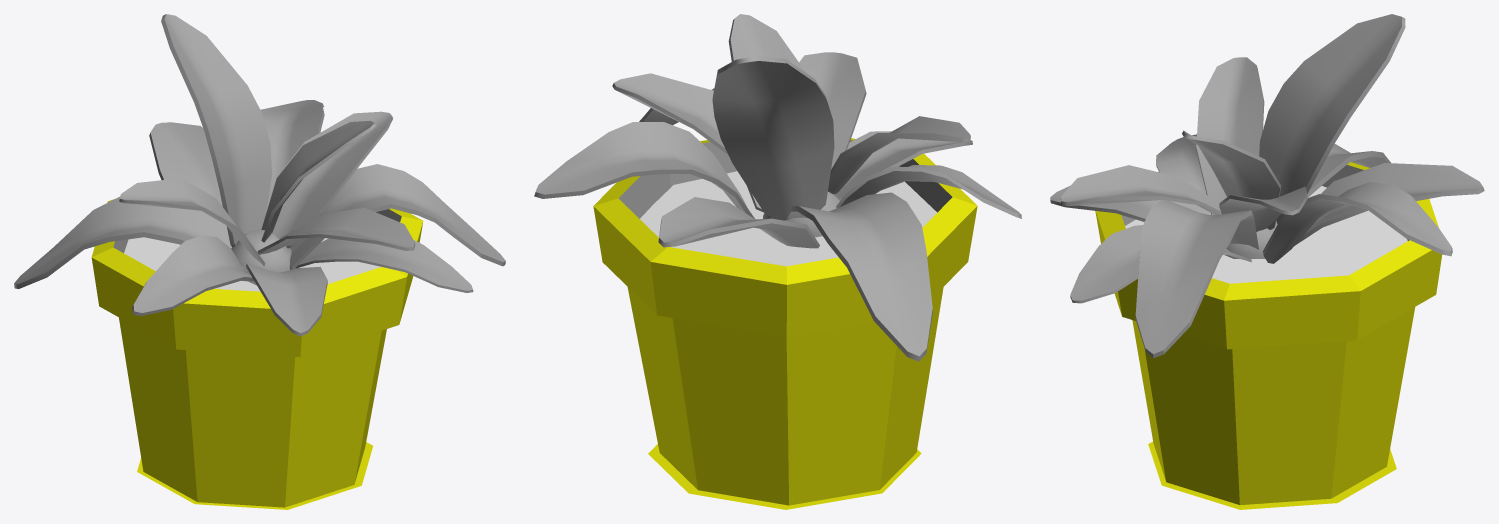
The model's file is PlantPot_Small.fbx.
3 renders of one model, left to right at view 1: azimuth 30°, elevation 25°; view 2: azimuth 150°, elevation 25°; view 3: azimuth 270°, elevation 25°, orthographic. The views are drawn at different scales.
Visible parts, largest first — view 1: PlantPot_Small; view 2: PlantPot_Small; view 3: PlantPot_Small.
Part boxes in pixels (box(x1,y1,x2,y2)): PlantPot_Small: box(14, 14, 505, 509); PlantPot_Small: box(534, 14, 1021, 509); PlantPot_Small: box(1050, 14, 1484, 509).
Bounding box in the file's own units: 40.92 × 42.41 × 39.09.
